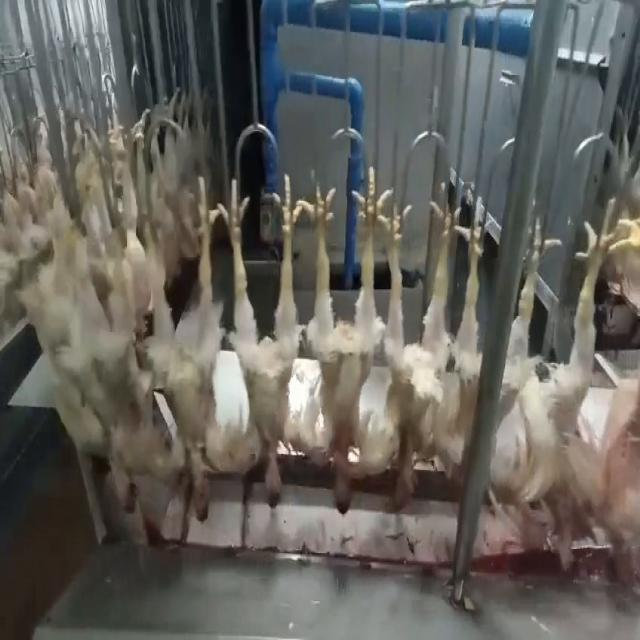chicken: (485, 204, 607, 575), (138, 163, 233, 528), (304, 166, 386, 517), (373, 175, 456, 512), (231, 160, 301, 507), (424, 176, 500, 479), (602, 197, 640, 605)
